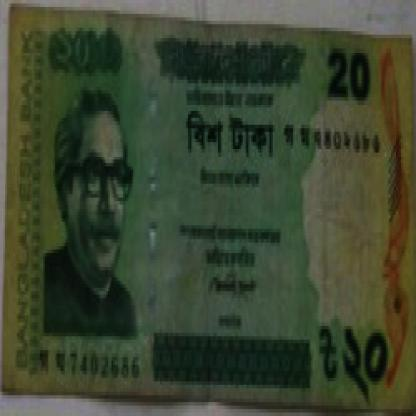Twenty: (320, 312, 391, 406), (176, 107, 278, 163), (48, 18, 128, 84), (320, 42, 379, 114)
